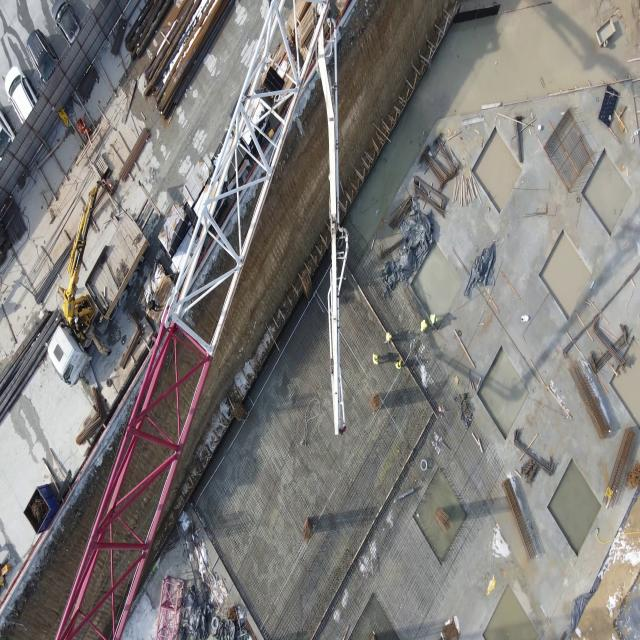p3rson: (146, 297, 160, 313), (74, 316, 86, 332), (74, 315, 85, 332), (429, 311, 438, 329), (383, 330, 392, 344), (420, 318, 428, 333), (393, 358, 402, 370), (372, 353, 379, 365)
